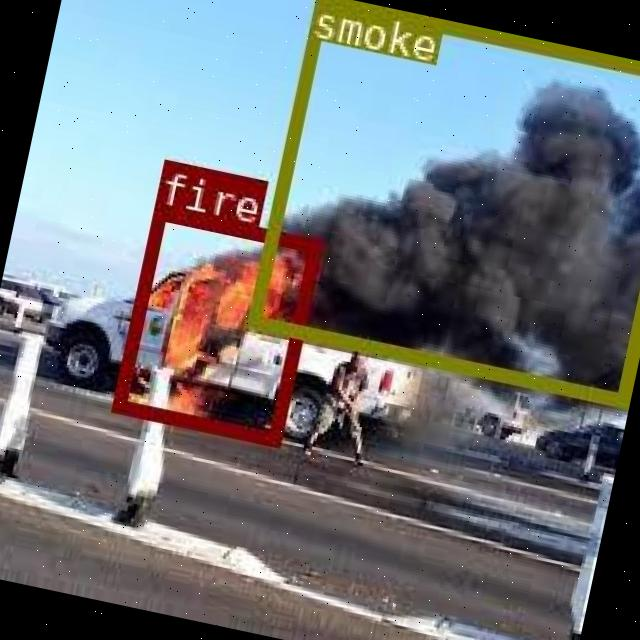fire: (110, 203, 319, 442)
smoke: (242, 0, 640, 405)
